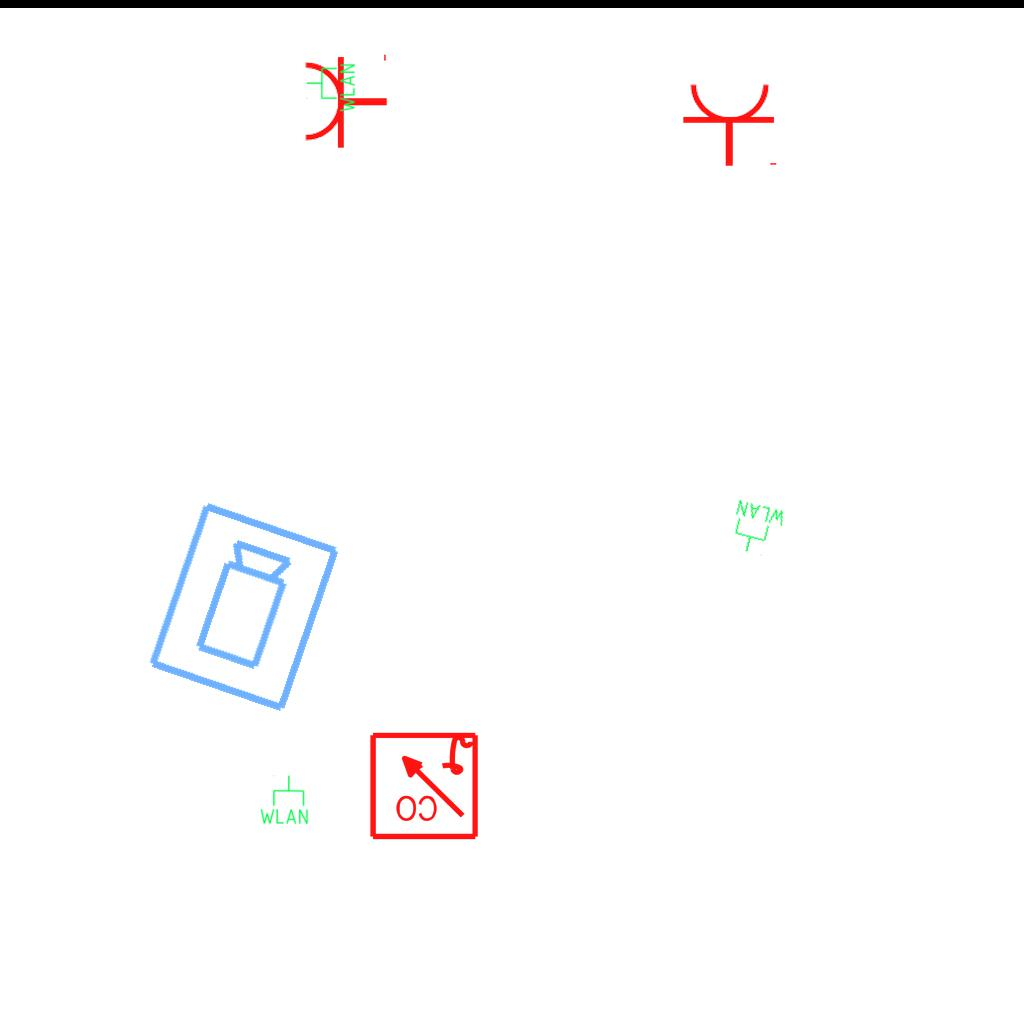KFO_Kamera_mit_Festobjektiv: (142, 496, 348, 720)
ROA_Rauchmelder_optisch_mit_Signalgeber_(Sockelsirene): (367, 728, 480, 841)
Schukosteckdose_einfach: (302, 50, 389, 150), (681, 81, 781, 168)
WLAN: (725, 497, 789, 561), (258, 774, 310, 826), (305, 62, 357, 114)
